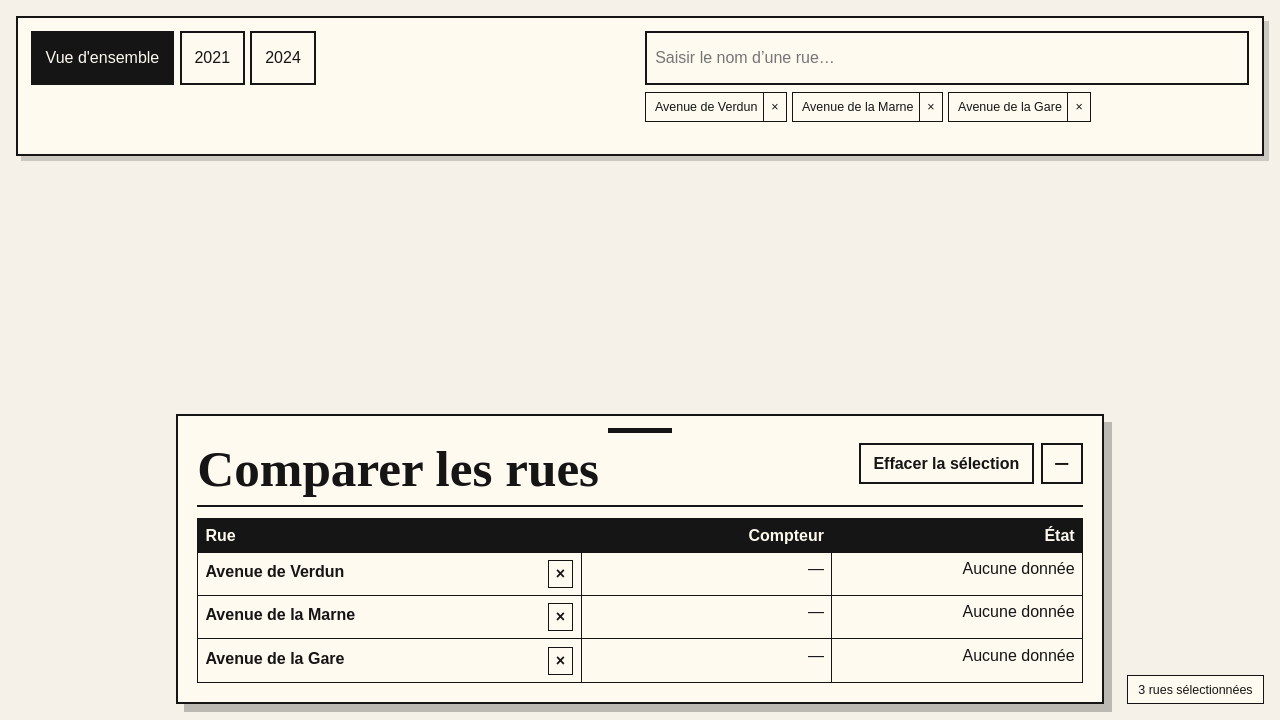
TrafficExplorer › keeps a collapsed comparison collapsed while streets change
Click the button named "Réduire la comparaison". click: [1062, 464]
box: [1041,443,1083,484]
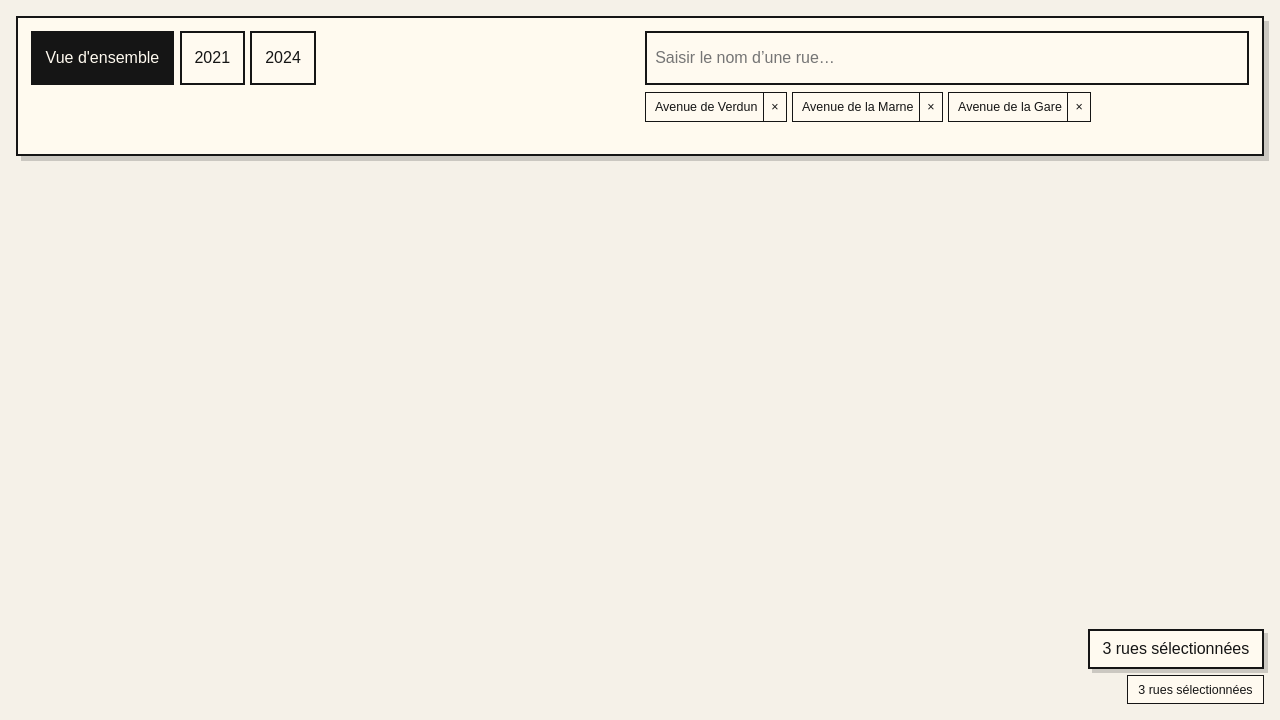
Check: the button "3 rues sélectionnées" is shown, box [1088,629,1264,669]
Click the button named "Retirer Avenue de Verdun". click: [774, 107]
box: [763,93,786,121]
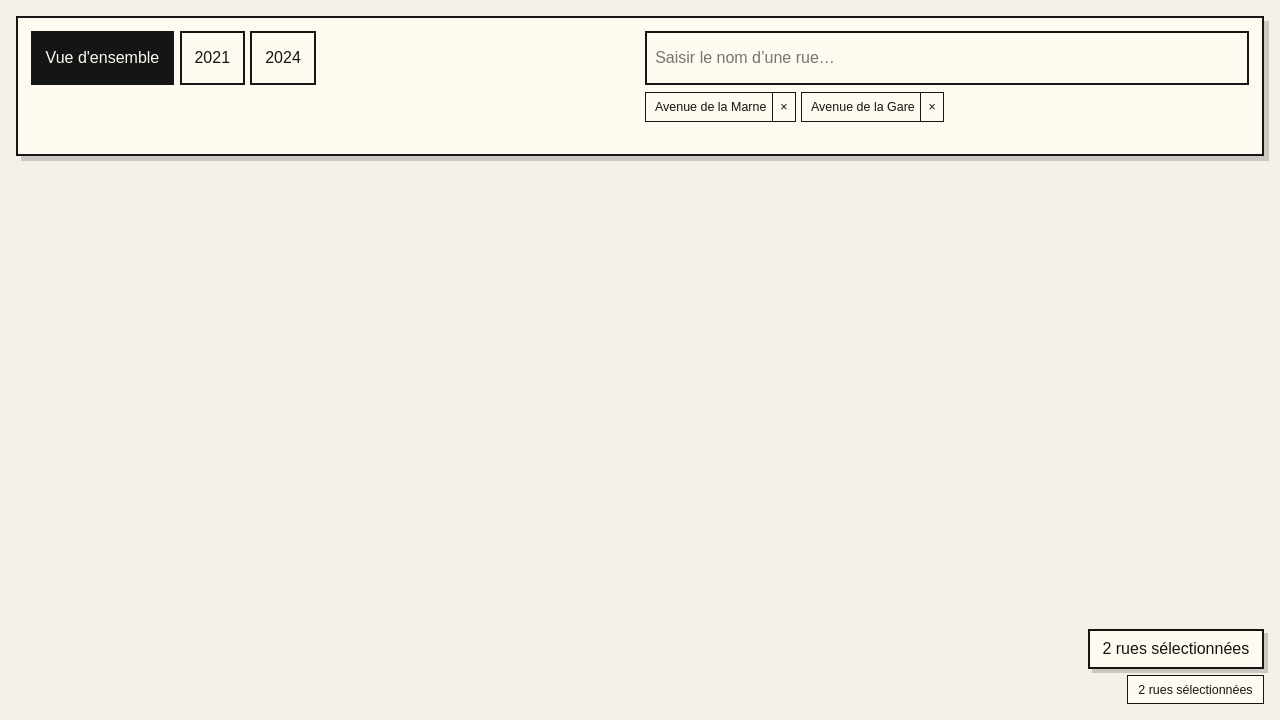
Check: the heading "Comparer les rues" is not shown
Check: the button "2 rues sélectionnées" is shown, box [1088,629,1264,669]
